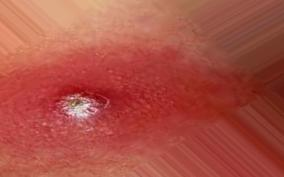Spider: (14, 70, 207, 163)
